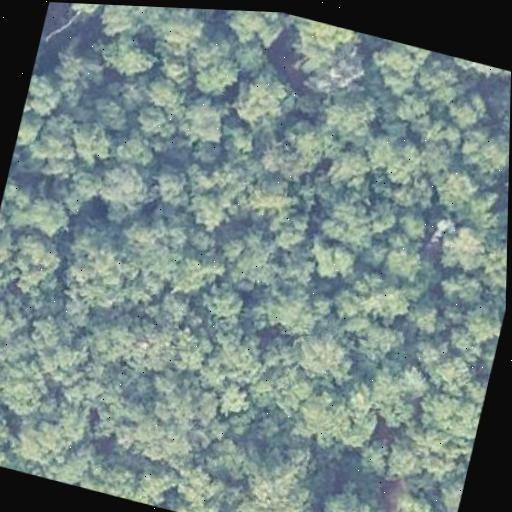tree-top: (111, 367, 227, 467), (48, 218, 151, 328), (289, 370, 383, 462), (90, 299, 187, 386), (21, 309, 104, 391), (70, 442, 172, 508), (234, 442, 325, 512), (312, 180, 391, 260), (337, 258, 421, 333), (224, 59, 300, 136), (218, 221, 293, 299), (193, 323, 268, 398), (254, 273, 330, 347), (180, 29, 253, 104), (313, 81, 388, 153), (412, 374, 486, 446), (6, 401, 81, 470), (156, 74, 230, 143), (361, 348, 431, 418), (290, 319, 358, 388), (234, 162, 307, 226), (91, 149, 158, 218), (428, 213, 495, 282), (0, 350, 58, 427), (284, 15, 365, 69), (368, 126, 434, 192), (452, 112, 510, 184), (416, 335, 481, 398), (363, 36, 432, 95), (100, 27, 164, 90), (174, 87, 236, 152), (427, 154, 488, 220), (23, 103, 84, 168), (166, 456, 233, 512), (319, 133, 379, 193), (18, 186, 79, 245), (145, 6, 211, 60), (303, 231, 363, 290), (378, 227, 436, 288), (306, 473, 396, 512), (451, 289, 506, 351), (193, 274, 252, 331), (146, 157, 202, 215), (413, 48, 469, 106), (66, 109, 121, 167), (12, 228, 68, 283), (22, 61, 70, 124), (213, 372, 262, 432), (0, 283, 42, 353), (218, 10, 287, 52), (185, 183, 234, 238), (79, 90, 134, 139), (92, 4, 151, 48), (226, 33, 275, 84), (379, 432, 426, 485), (144, 67, 194, 115), (403, 290, 450, 341), (474, 224, 507, 295), (389, 81, 435, 130), (0, 451, 68, 482), (384, 478, 445, 512), (440, 54, 511, 82), (392, 202, 435, 247), (220, 114, 263, 157), (0, 175, 20, 255), (433, 471, 465, 512), (58, 3, 119, 24), (498, 158, 509, 225), (483, 65, 511, 86)
